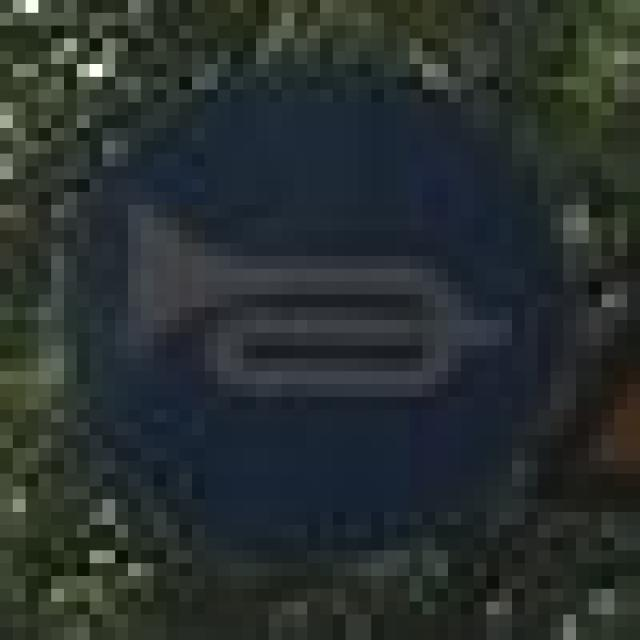compulsory_min_speed: (38, 52, 550, 550)
